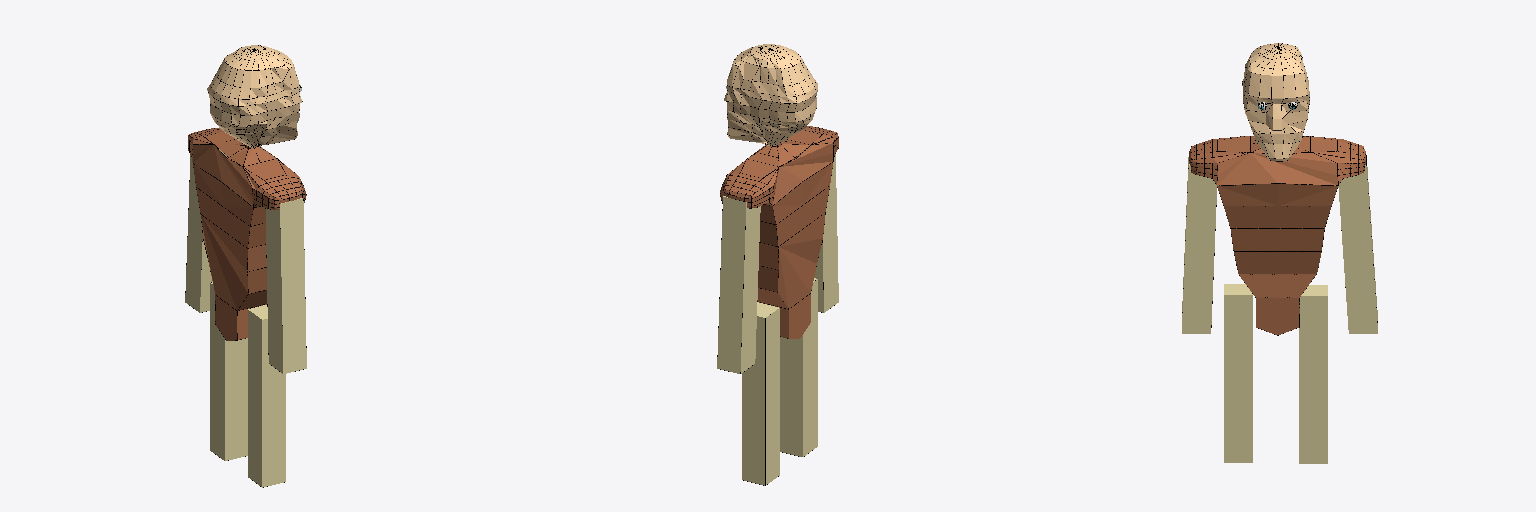
3 renders of one model, left to right at view 1: azimuth 30°, elevation 25°; view 2: azimuth 150°, elevation 25°; view 3: azimuth 270°, elevation 25°, orthographic.
Parts seen in each view (by area): view 1: body3_body_Cube.001, head4_Sphere, left_arm_left_arm_Cube.004, left_leg_left_leg_Cube.005, right_leg_right_leg_Cube.006, right_arm_right_arm_Cube; view 2: body3_body_Cube.001, head4_Sphere, right_arm_right_arm_Cube, right_leg_right_leg_Cube.006, left_leg_left_leg_Cube.005, left_arm_left_arm_Cube.004; view 3: body3_body_Cube.001, head4_Sphere, left_leg_left_leg_Cube.005, right_leg_right_leg_Cube.006, right_arm_right_arm_Cube, left_arm_left_arm_Cube.004.
Part boxes in pixels (x1,y1,x2,y2): body3_body_Cube.001: (188,128,306,340); head4_Sphere: (207,45,302,147); left_arm_left_arm_Cube.004: (265,198,306,373); left_leg_left_leg_Cube.005: (248,305,285,487); right_leg_right_leg_Cube.006: (210,282,247,460); right_arm_right_arm_Cube: (185,149,226,312); body3_body_Cube.001: (720,126,838,338); head4_Sphere: (724,44,817,145); right_arm_right_arm_Cube: (717,196,760,373); right_leg_right_leg_Cube.006: (742,302,779,485); left_leg_left_leg_Cube.005: (780,278,817,456); left_arm_left_arm_Cube.004: (798,149,838,312); body3_body_Cube.001: (1189,136,1365,335); head4_Sphere: (1242,43,1309,161); left_leg_left_leg_Cube.005: (1224,284,1252,462); right_leg_right_leg_Cube.006: (1299,285,1327,463); right_arm_right_arm_Cube: (1338,155,1377,333); left_arm_left_arm_Cube.004: (1182,157,1216,333).
Size of the model in its own units: 0.2062 by 0.9416 by 0.4055.
6 materials, 3 textured.